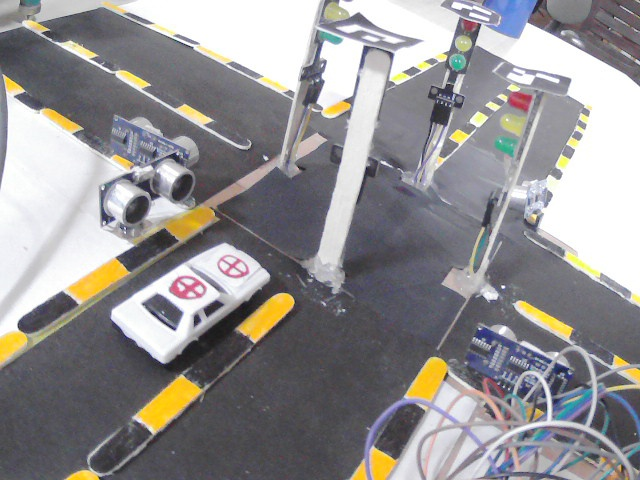aruco_marker: (320, 13, 421, 54), (492, 61, 570, 96), (443, 0, 501, 26)
emergency_vehicle: (108, 240, 270, 367)
traffic_light: (429, 15, 481, 108), (492, 91, 547, 165), (314, 1, 351, 49)
uno_breadboard: (463, 318, 577, 410), (99, 152, 197, 227), (106, 112, 199, 169), (507, 179, 550, 216)
